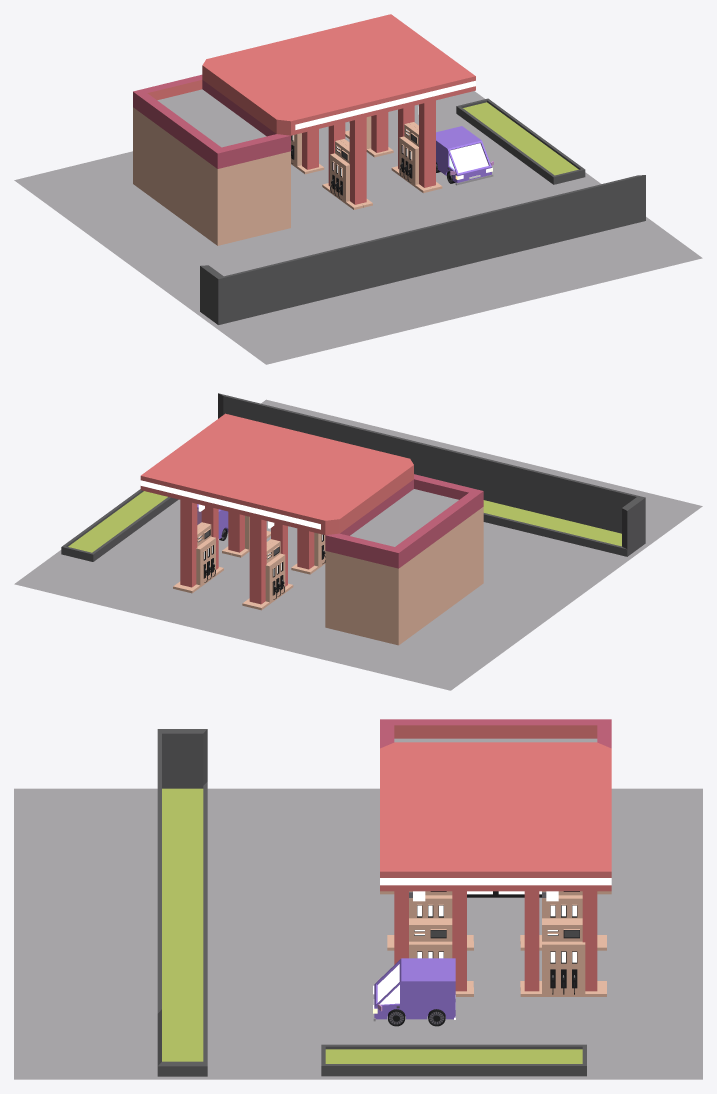
Rendered from fuel_station.gltf.
3 views of the same model, one above another, from view 1: azimuth 30°, elevation 25°; view 2: azimuth 150°, elevation 25°; view 3: azimuth 270°, elevation 25° (orthographic). The views are drawn at different scales.
Visible parts, largest first — view 1: Cube, Plane, car, top_strip, car_window; view 2: Cube, Plane, top_strip; view 3: Plane, Cube, car, top_strip, car_window.
Boxes of the visible parts, left/top/right/bottom form: Cube: left=133, top=14, right=645, bottom=324; Plane: left=14, top=91, right=702, bottom=364; car: left=436, top=126, right=493, bottom=185; top_strip: left=295, top=80, right=475, bottom=129; car_window: left=449, top=143, right=488, bottom=173; Cube: left=61, top=393, right=645, bottom=645; Plane: left=14, top=399, right=702, bottom=690; top_strip: left=140, top=480, right=320, bottom=529; Plane: left=14, top=788, right=702, bottom=1079; Cube: left=157, top=719, right=611, bottom=1076; car: left=373, top=958, right=455, bottom=1026; top_strip: left=380, top=878, right=611, bottom=885; car_window: left=377, top=964, right=399, bottom=1004.
Size of the model in its own units: 23.79 by 5.56 by 23.79.
10 materials, 2 textured.
